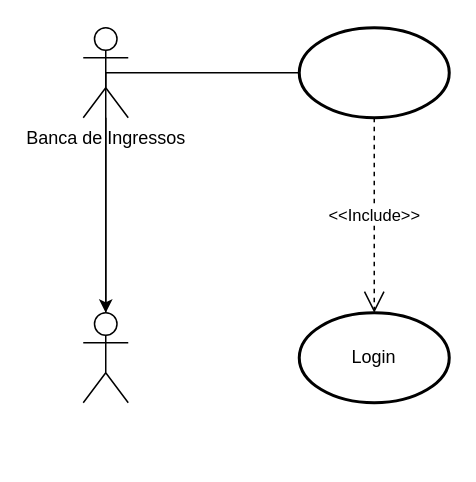
Some shapes in this 476 by 482 pixel diagram are drawn without their labels. The box of each missing label's shape, as (x1, y1, x2, y2) in pixels:
Comprar Ingresso: (297, 26, 450, 118)
Pessoa: (82, 311, 128, 403)
